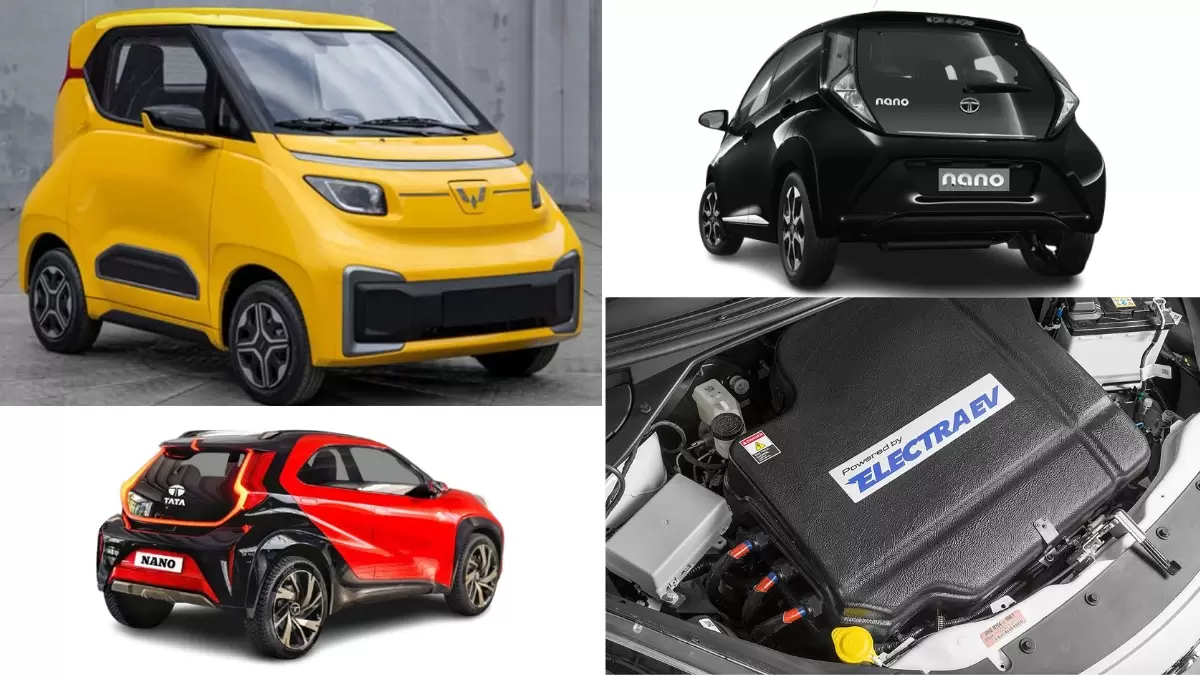Nano: (692, 8, 1106, 289), (92, 418, 505, 658)
